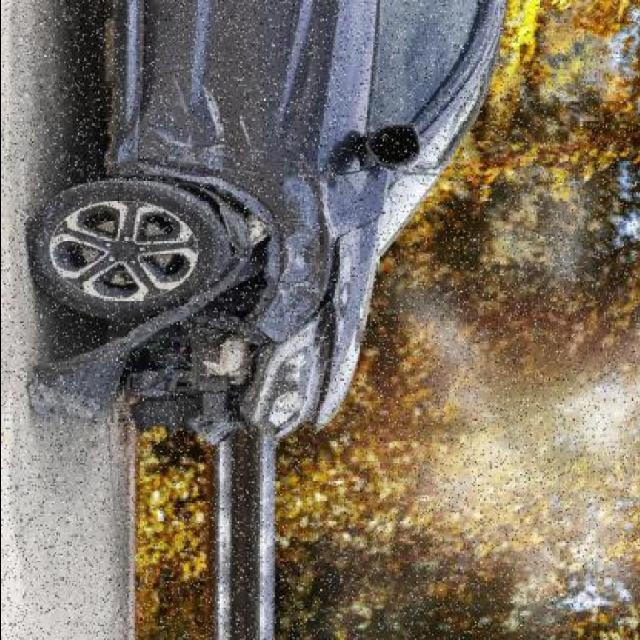doorouter-dent: (136, 0, 370, 167)
fender-dent: (229, 168, 365, 327)
front-bumper-dent: (129, 331, 339, 467)
